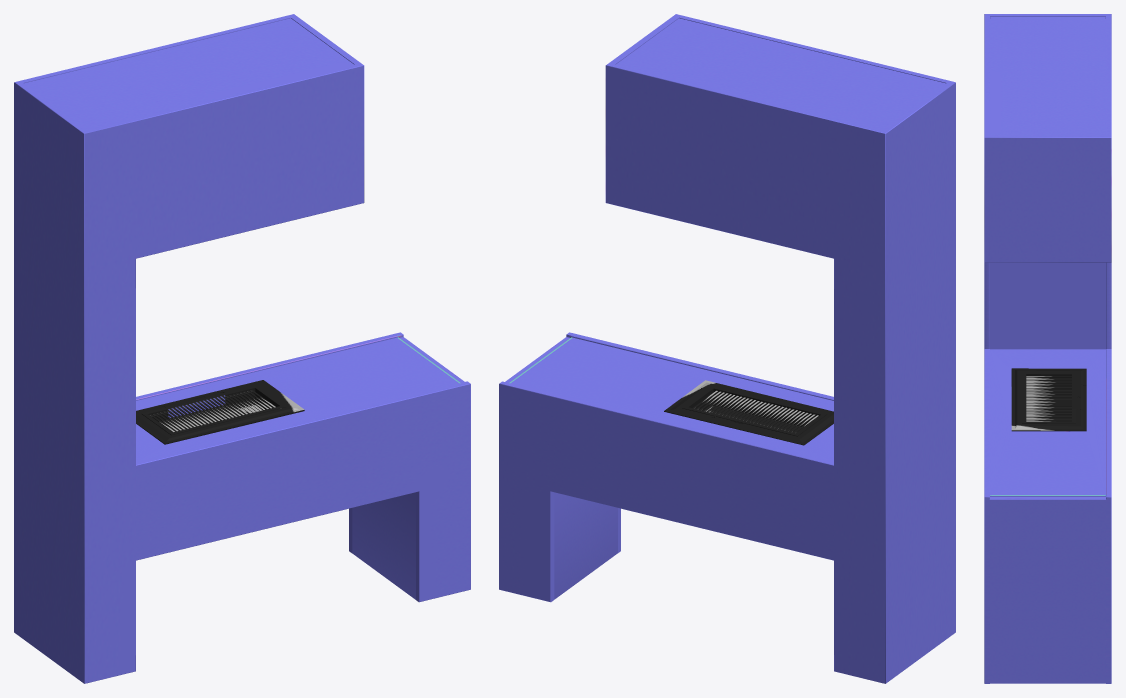
File: Mozart.fbx
3 renders of one model, left to right at view 1: azimuth 30°, elevation 25°; view 2: azimuth 150°, elevation 25°; view 3: azimuth 270°, elevation 25°, orthographic. The views are drawn at different scales.
Visible parts, largest first — view 1: Cube.007; view 2: Cube.007; view 3: Cube.007.
Boxes of the visible parts, x1=… form: Cube.007: x1=14, y1=14, x2=470, y2=683; Cube.007: x1=499, y1=14, x2=955, y2=683; Cube.007: x1=984, y1=14, x2=1111, y2=683.
Bounding box in the file's own units: 209 × 285 × 65.92.
